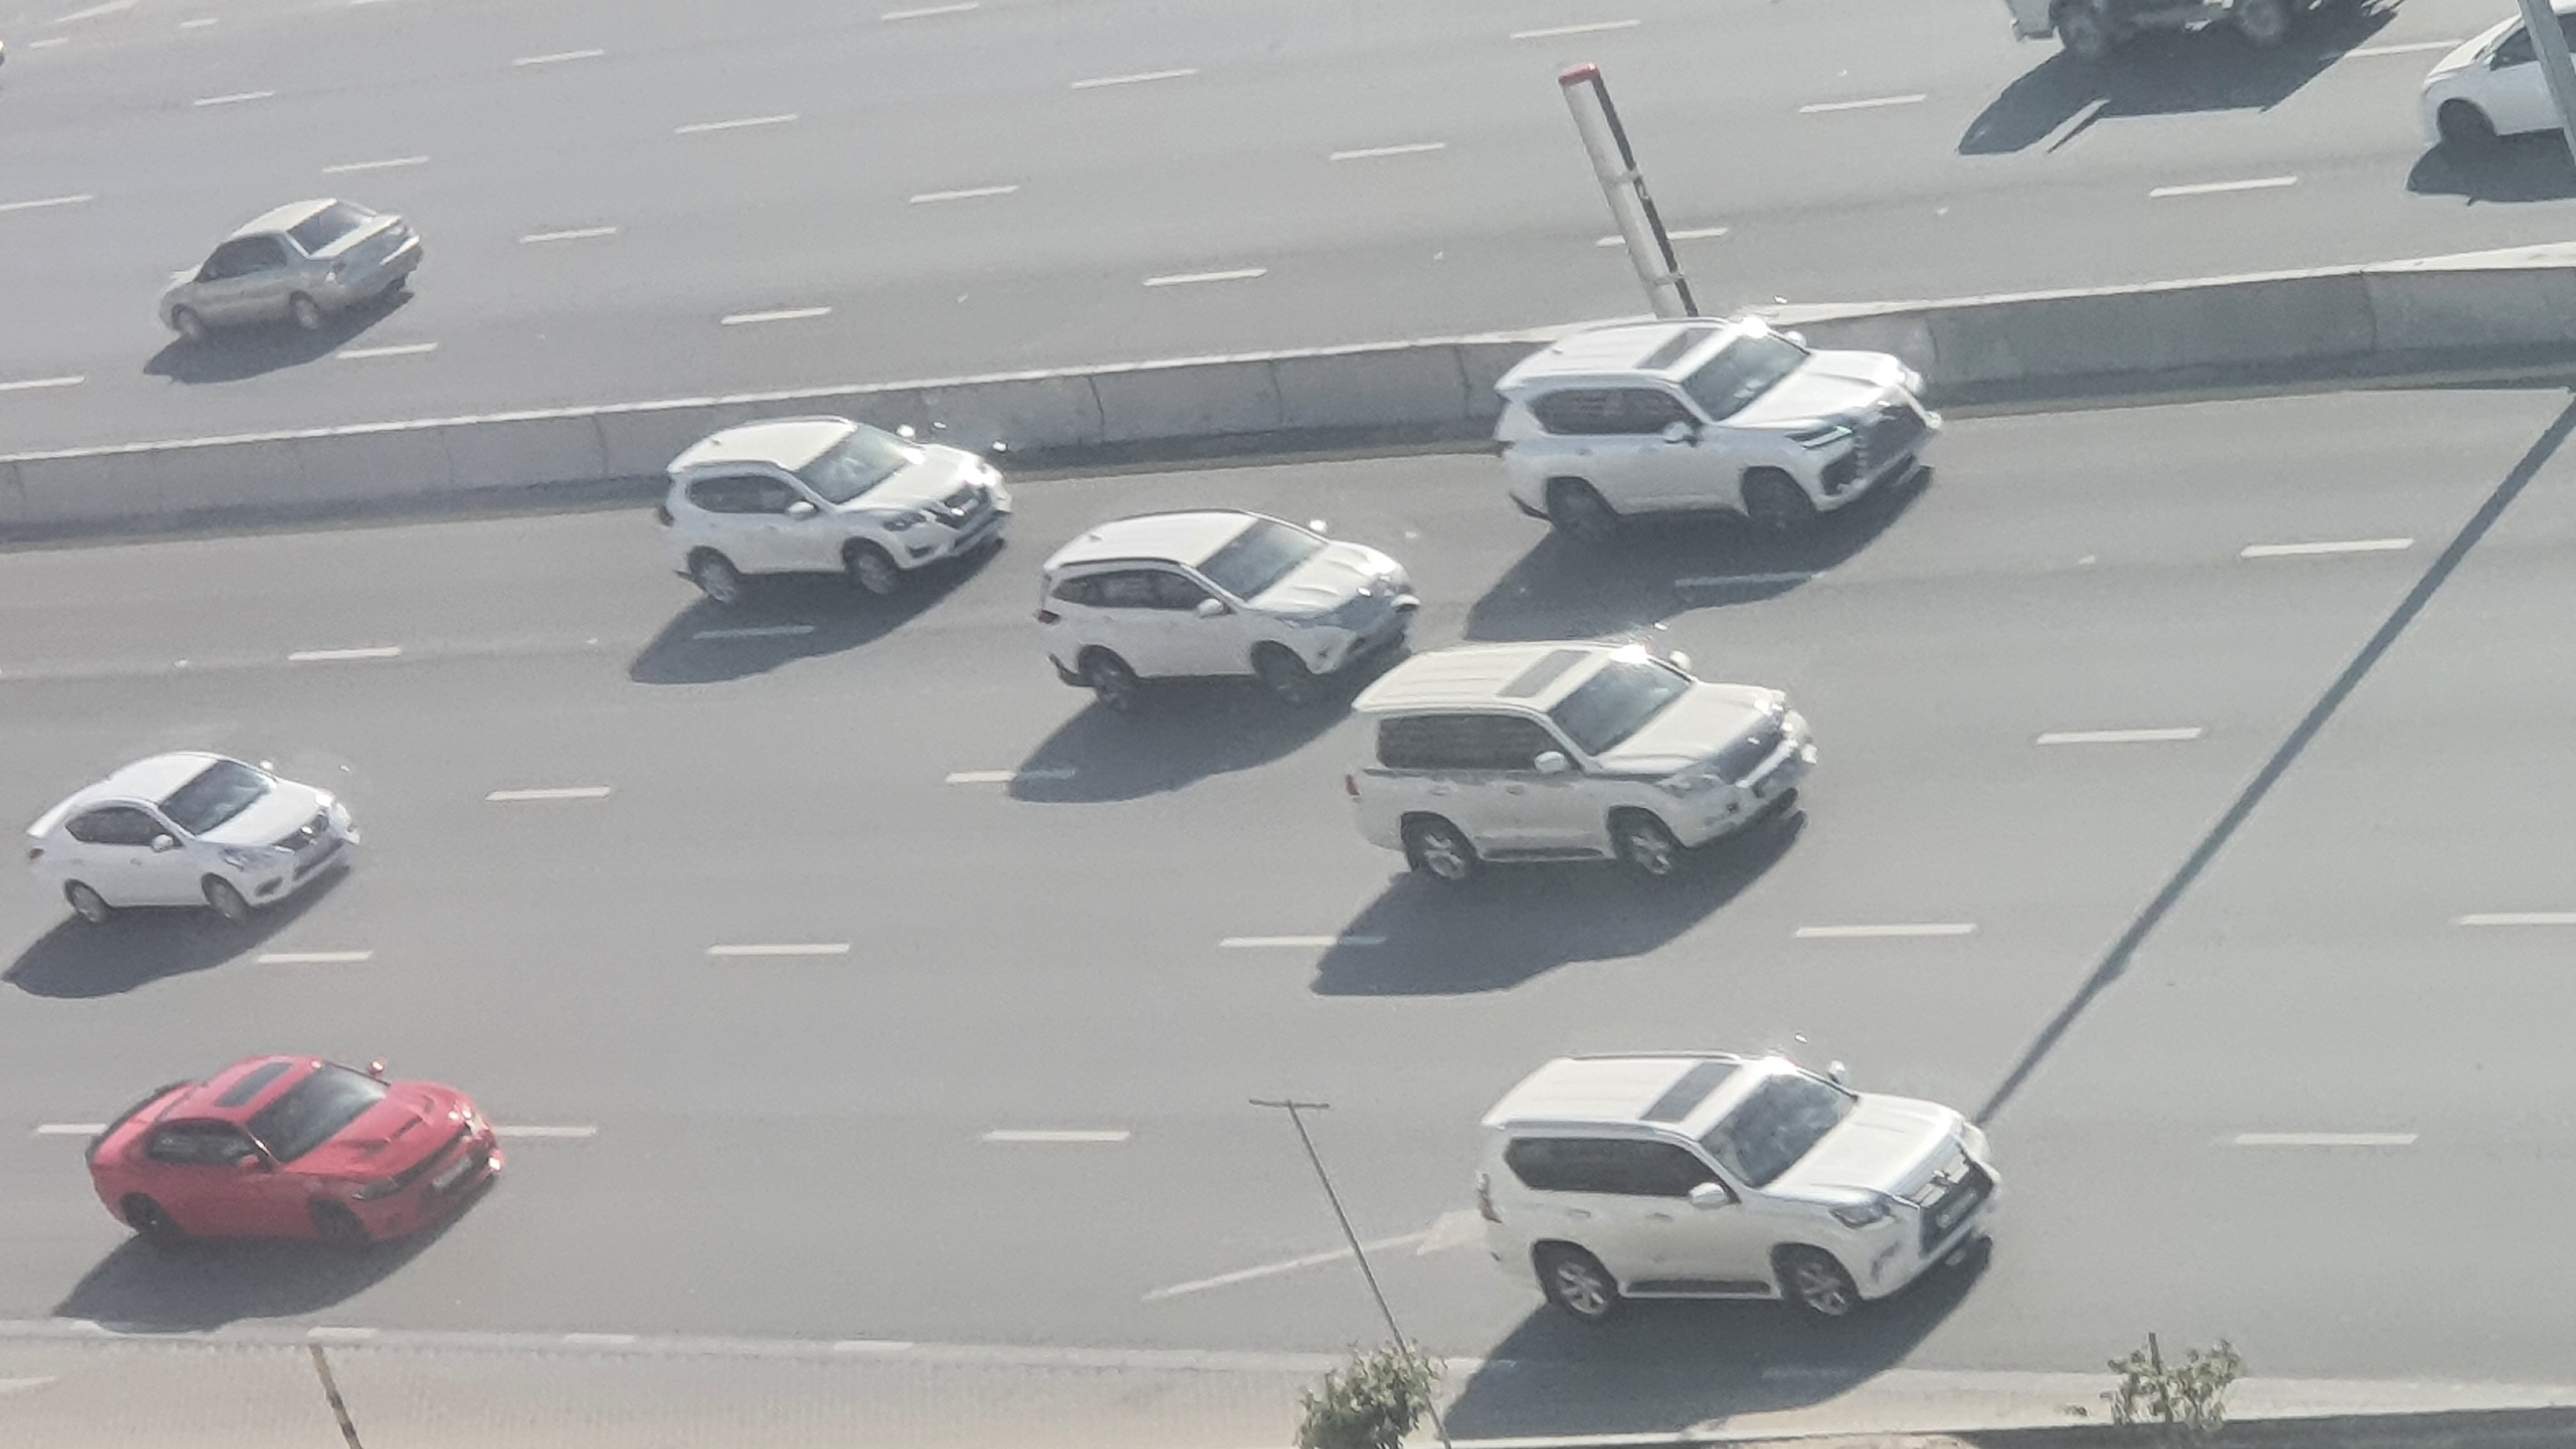NotSunroof: (656, 398, 1010, 621), (1033, 511, 1419, 715), (18, 738, 368, 927)
Sunroof: (1479, 1040, 2005, 1336), (1336, 628, 1813, 906), (1486, 317, 1946, 533), (65, 1051, 501, 1270)
